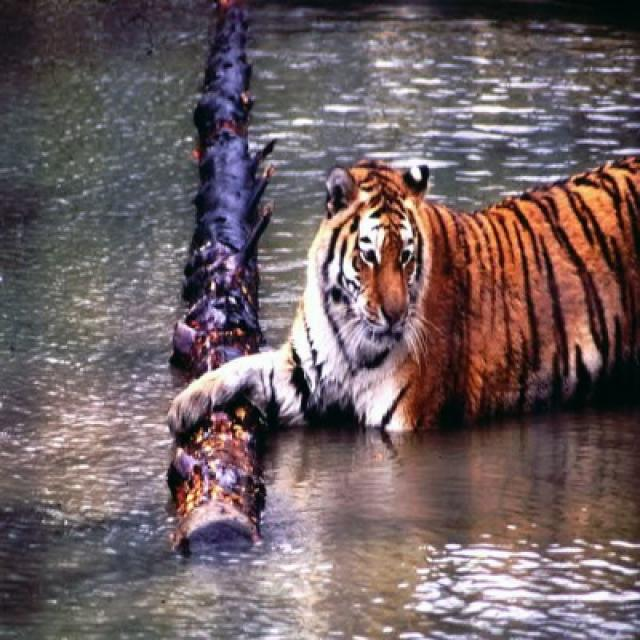Tiger: (166, 151, 637, 434)
